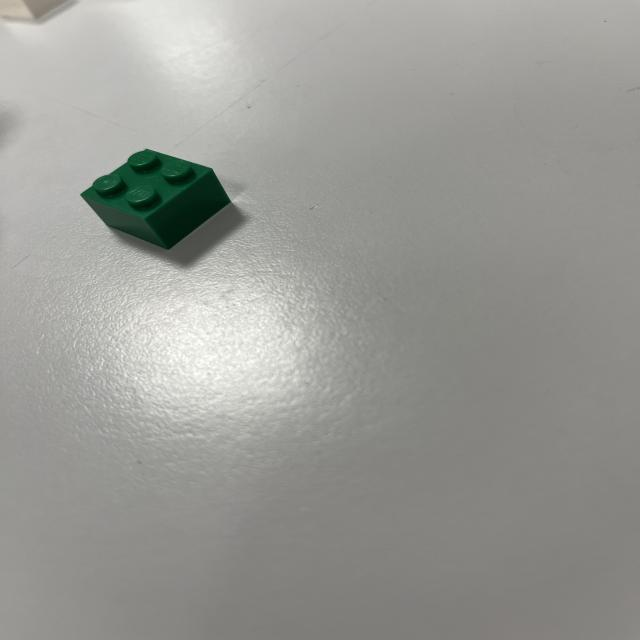C2x2x1: (80, 146, 240, 249)
